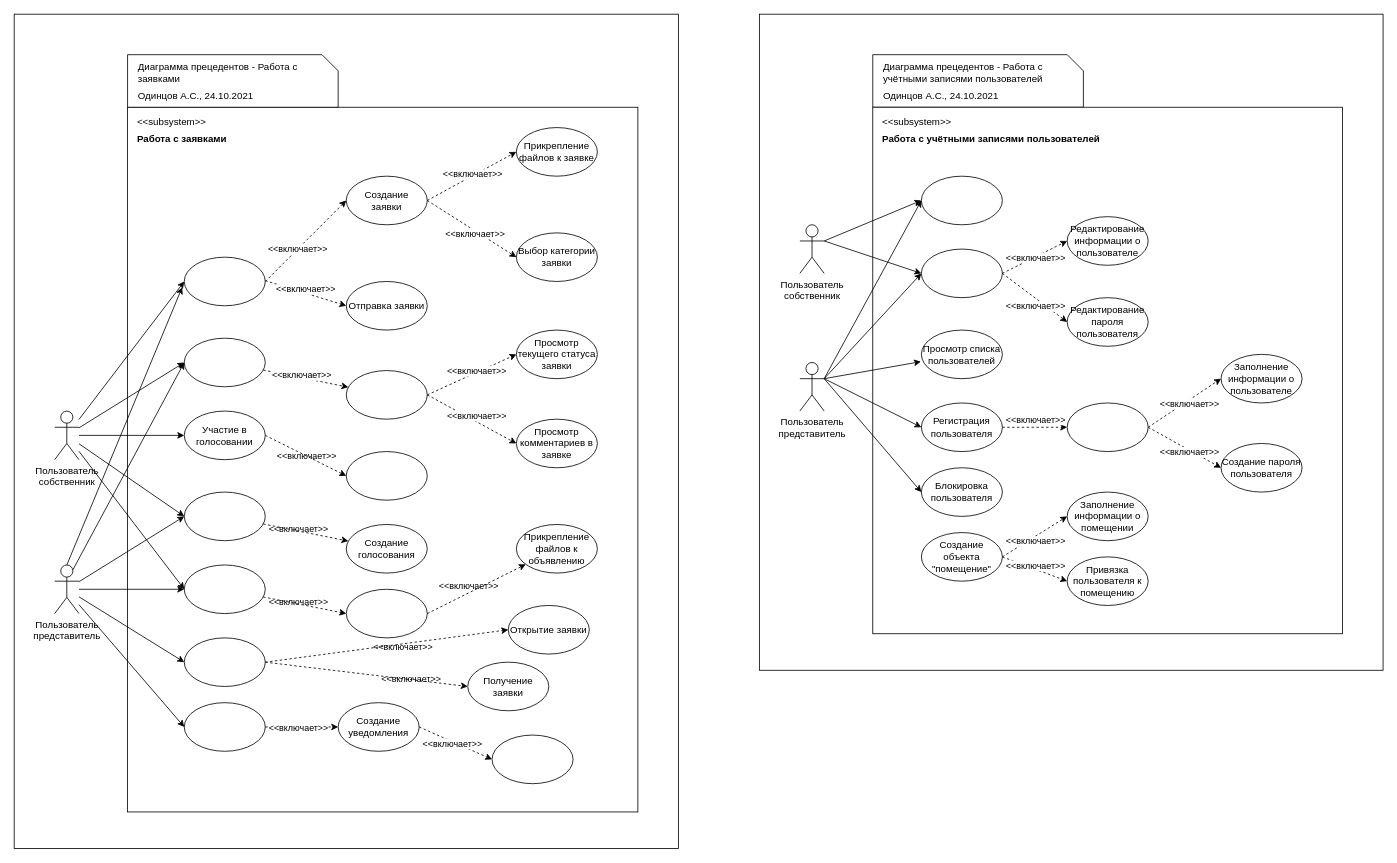
This 1397x863 diagram has some shape labels left out. Each missing label, with the centre of its shape:
Авторизация в системе: the point at 961,200
Завершение заявки: the point at 224,362
Изменение статуса заявки: the point at 224,661
Отправка уведомления: the point at 224,726
Прикрепление файлов к уведомлению: the point at 532,759
Просмотр голосования: the point at 386,475
Просмотр заявки: the point at 386,394
Размещение голосования: the point at 224,516
Размещение объявления: the point at 224,589
Редактирование своих учётных данных: the point at 961,273
Создание объявления: the point at 386,613
Создание учётной записи пользователя: the point at 1107,427
Формирование заявки: the point at 224,281
